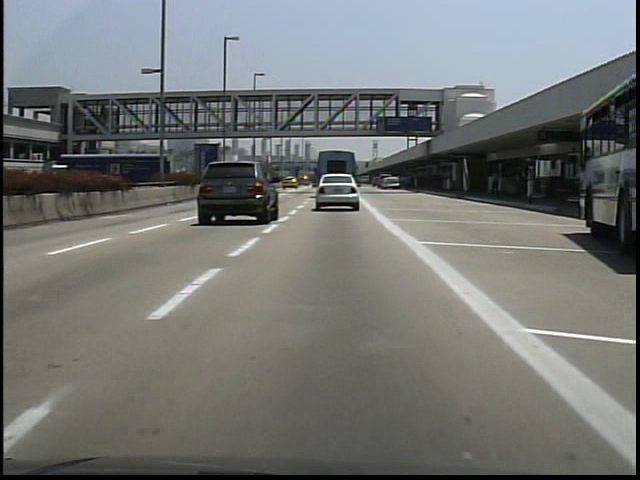person: (485, 166, 506, 203)
